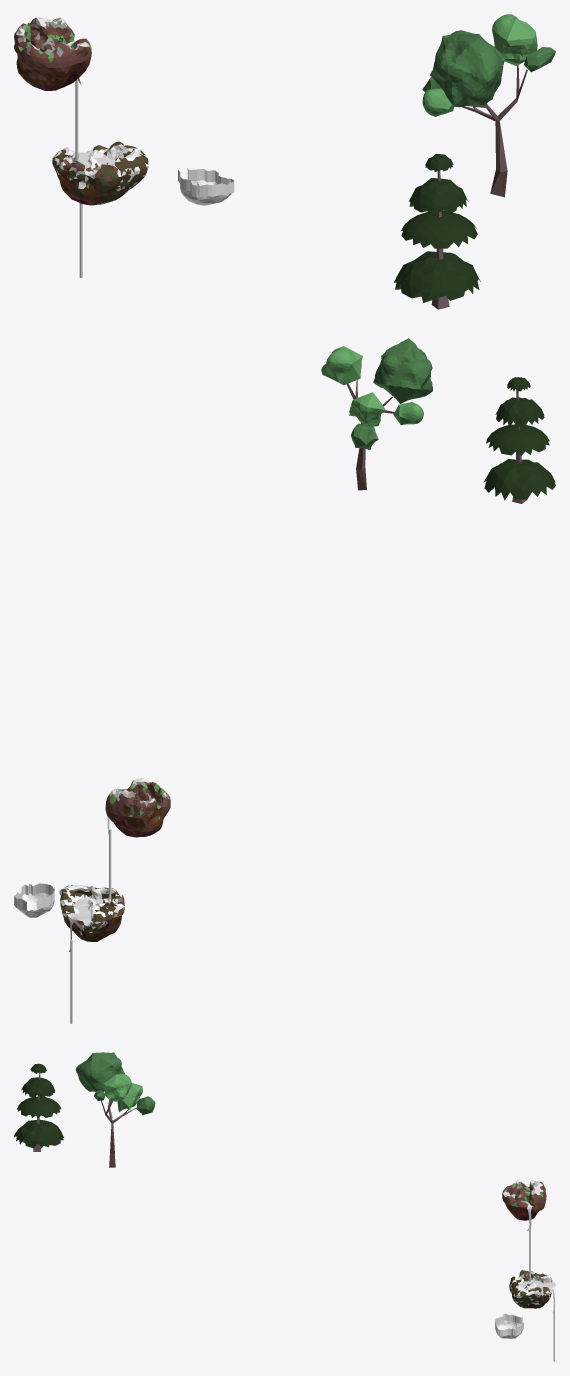
The model's file is 20728background.fbx.
3 renders of one model, top to bottom at view 1: azimuth 30°, elevation 25°; view 2: azimuth 150°, elevation 25°; view 3: azimuth 270°, elevation 25°, orthographic. The views are drawn at different scales.
Parts seen in each view (by area): view 1: Icosphere.011, Icosphere, Icosphere.003, Plane.006, Plane.005, Icosphere.018, Plane.012, Plane.010; view 2: Icosphere.011, Icosphere, Icosphere.003, Plane.006, Plane.005, Icosphere.018, Plane.012; view 3: Icosphere.011, Icosphere, Icosphere.003, Plane.006, Plane.005, Icosphere.018, Plane.012.
Boxes of the visible parts, <box> form: Icosphere.011: <box>422,14,555,197</box>; Icosphere: <box>14,17,91,90</box>; Icosphere.003: <box>52,141,148,205</box>; Plane.006: <box>393,251,480,302</box>; Plane.005: <box>401,211,477,248</box>; Icosphere.018: <box>178,168,234,205</box>; Plane.012: <box>409,178,467,215</box>; Plane.010: <box>425,154,453,171</box>; Icosphere.011: <box>321,338,432,490</box>; Icosphere: <box>105,778,170,837</box>; Icosphere.003: <box>59,885,124,941</box>; Plane.006: <box>483,459,555,500</box>; Plane.005: <box>486,424,549,455</box>; Icosphere.018: <box>14,883,54,917</box>; Plane.012: <box>495,397,544,427</box>; Icosphere.011: <box>75,1052,155,1167</box>; Icosphere: <box>502,1180,546,1220</box>; Icosphere.003: <box>509,1269,552,1308</box>; Plane.006: <box>14,1119,63,1148</box>; Plane.005: <box>17,1096,60,1118</box>; Icosphere.018: <box>495,1313,523,1338</box>; Plane.012: <box>21,1077,54,1098</box>.
Size of the model in its own units: 676 by 1464 by 2343.
